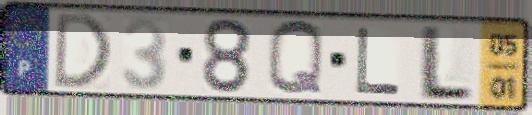3: (120, 14, 171, 93)
8: (198, 17, 254, 96)
D: (50, 10, 114, 91)
L: (414, 23, 477, 104), (354, 25, 403, 97)
Q: (265, 17, 327, 99)
